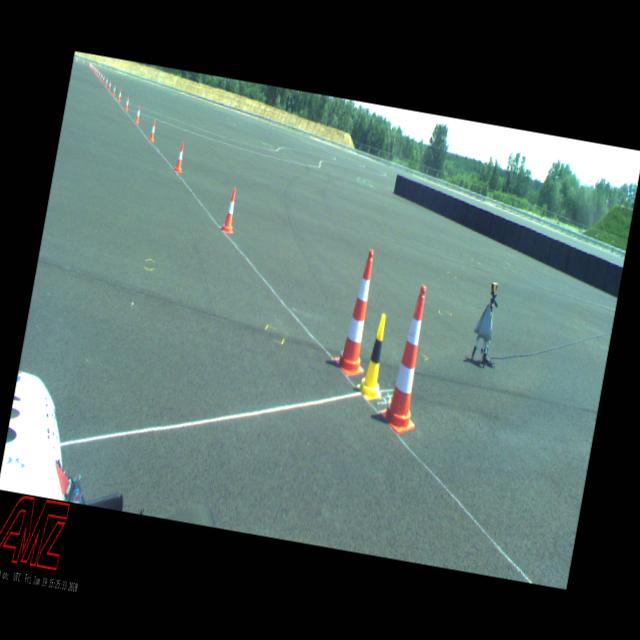large_orange_cone: (376, 282, 438, 436), (332, 246, 384, 377)
orange_cone: (221, 186, 240, 232), (173, 141, 186, 172), (148, 120, 157, 142), (134, 105, 141, 123), (123, 95, 130, 111), (116, 89, 122, 102), (112, 84, 116, 96), (104, 76, 108, 85), (108, 80, 111, 90), (102, 74, 105, 82), (100, 72, 102, 80)
yellow_cone: (354, 311, 394, 401)
